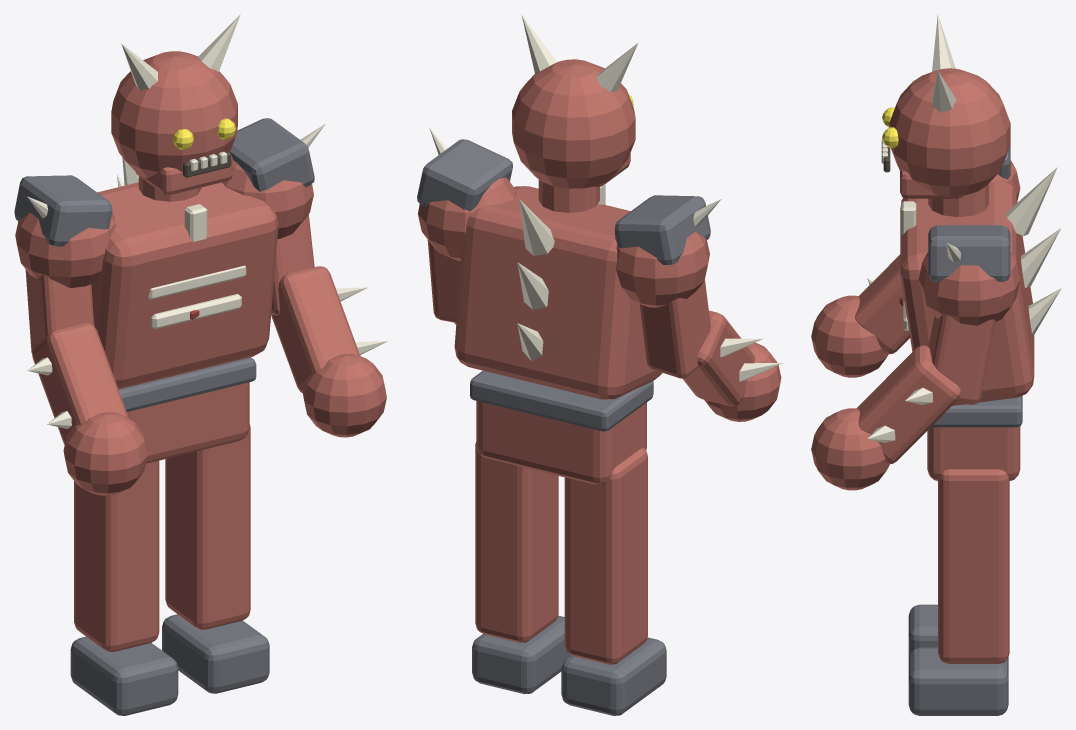
File: BossZombie.fbx
3 views of the same model, side by side, from view 1: azimuth 30°, elevation 25°; view 2: azimuth 150°, elevation 25°; view 3: azimuth 270°, elevation 25° (orthographic). The views are drawn at different scales.
Visible parts, largest first — view 1: Torso, Leg_R, Leg_L, Head, Forearm_R, Boot_L, Forearm_L, Hips, Boot_R, Fist_L, Fist_R, Pauldron_L (+13 smaller); view 2: Torso, Leg_L, Leg_R, Head, Hips, Belt, Boot_L, Boot_R, Arm_L, Shoulder_L, Pauldron_L, Pauldron_R (+10 smaller); view 3: Leg_R, Head, Torso, Forearm_R, Boot_R, Shoulder_R, Fist_R, Hips, Fist_L, Arm_R, Pauldron_R, Forearm_L (+10 smaller).
Part boxes in pixels (x1,y1,x2,y2): Torso: [91, 182, 278, 389]; Leg_R: [165, 424, 250, 629]; Leg_L: [74, 460, 159, 651]; Head: [111, 51, 237, 178]; Forearm_R: [271, 266, 360, 392]; Boot_L: [70, 636, 178, 715]; Forearm_L: [32, 323, 128, 444]; Hips: [127, 382, 249, 463]; Boot_R: [162, 614, 269, 693]; Fist_L: [63, 412, 147, 495]; Fist_R: [302, 353, 386, 437]; Pauldron_L: [14, 175, 112, 246]; Torso: [454, 186, 661, 399]; Leg_L: [564, 448, 647, 664]; Leg_R: [475, 442, 558, 642]; Head: [512, 59, 635, 188]; Hips: [476, 401, 646, 484]; Belt: [470, 370, 653, 431]; Boot_L: [561, 637, 666, 715]; Boot_R: [472, 615, 571, 694]; Arm_L: [639, 280, 710, 378]; Shoulder_L: [615, 231, 709, 307]; Pauldron_L: [614, 195, 710, 265]; Pauldron_R: [417, 139, 512, 211]; Leg_R: [938, 469, 1009, 663]; Head: [889, 68, 1010, 196]; Torso: [900, 180, 1034, 405]; Forearm_R: [856, 345, 960, 464]; Boot_R: [908, 647, 1008, 715]; Shoulder_R: [918, 252, 1020, 325]; Fist_R: [811, 408, 889, 490]; Hips: [927, 426, 1020, 480]; Fist_L: [811, 295, 888, 377]; Arm_R: [928, 315, 995, 404]; Pauldron_R: [928, 225, 1010, 281]; Forearm_L: [855, 254, 909, 354].
Size of the model in its own units: 1.76 by 3.26 by 1.16.
